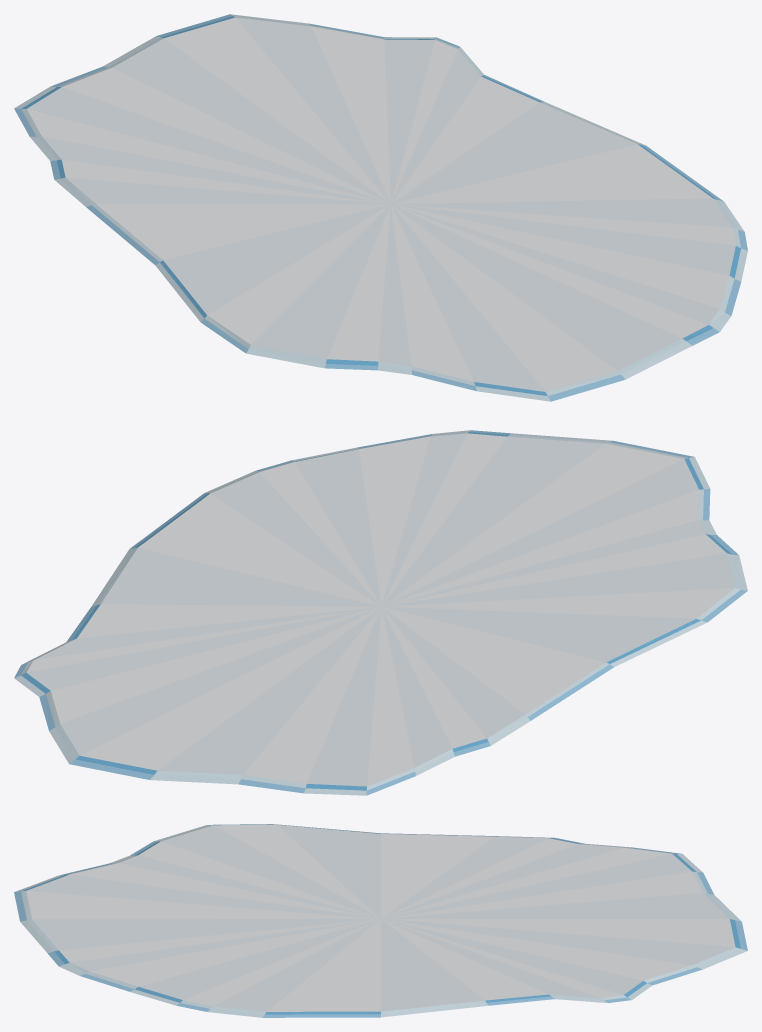
Rendered from iceberg_tabular.glb.
3 views of the same model, one above another, from view 1: azimuth 30°, elevation 25°; view 2: azimuth 150°, elevation 25°; view 3: azimuth 270°, elevation 25° (orthographic). The views are drawn at different scales.
Visible parts, largest first — view 1: AntarcticTabularIceberg; view 2: AntarcticTabularIceberg; view 3: AntarcticTabularIceberg.
Boxes of the visible parts, left/top/right/bottom form: AntarcticTabularIceberg: left=14, top=14, right=747, bottom=401; AntarcticTabularIceberg: left=14, top=430, right=747, bottom=795; AntarcticTabularIceberg: left=14, top=824, right=747, bottom=1017.
Size of the model in its own units: 6969 by 174 by 11154.
